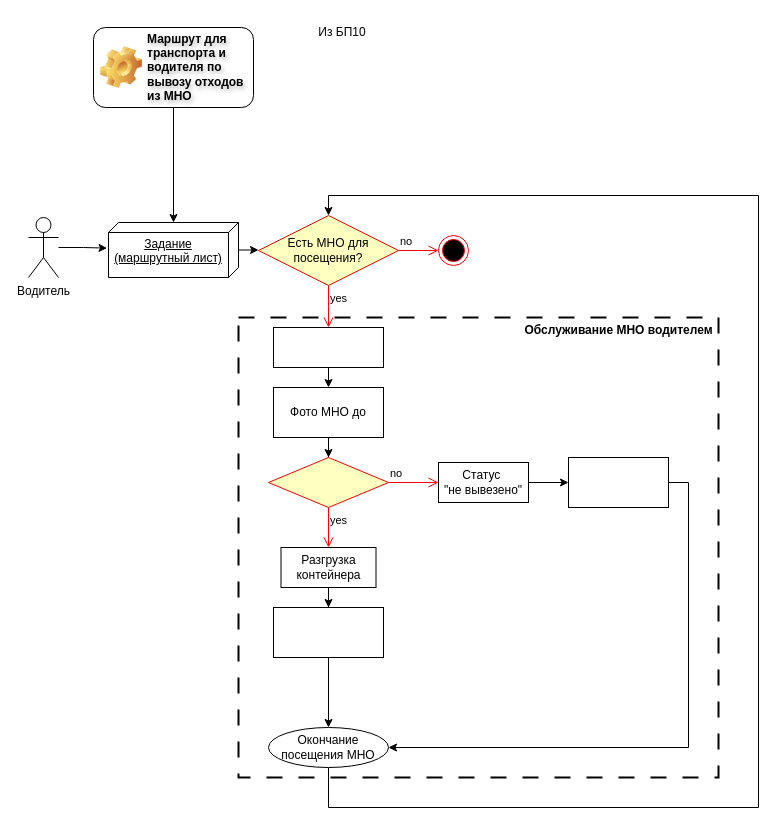
Some shapes in this 784 by 833 pixel diagram are drawn without their labels. The box of each missing label's shape, as (x1, y1, x2, y2) in pixels:
Всё в порядке?: (268, 456, 388, 508)
Посещение МНО: (272, 326, 384, 368)
Указание причины почему не вывезено: (568, 456, 668, 508)
Фото МНО после: (272, 606, 384, 658)
